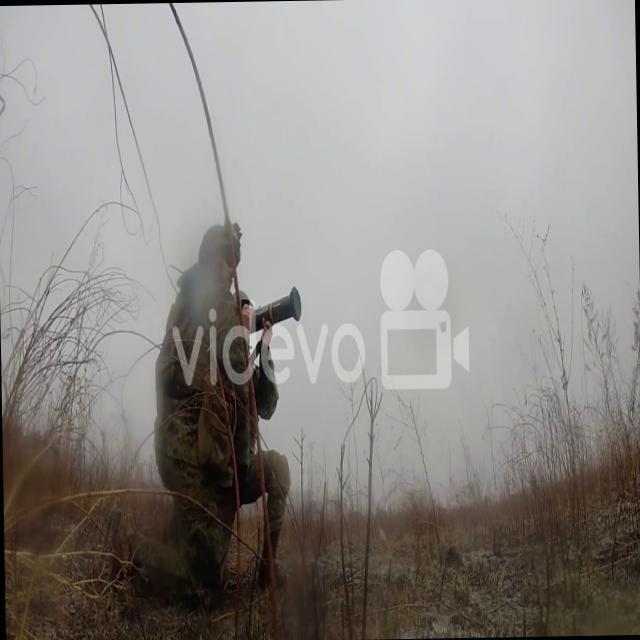rocket: (244, 284, 301, 334)
